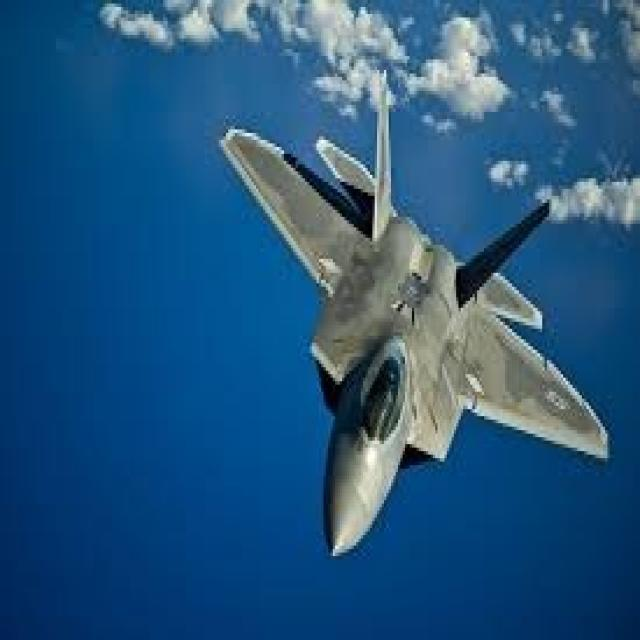F22: (187, 49, 634, 568)
